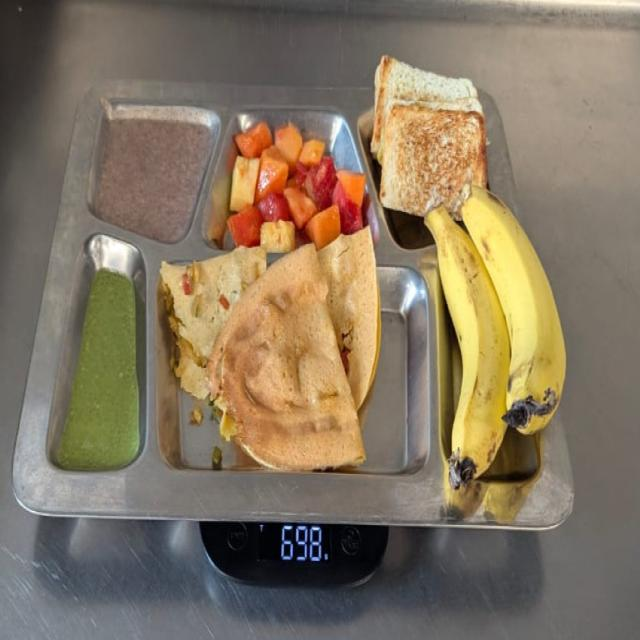Banana: (423, 193, 568, 495)
Besan Chilla: (158, 258, 382, 473)
Bread: (369, 52, 491, 215)
Chutney: (48, 262, 146, 478)
Mix Fruit: (226, 120, 370, 252)
Porridge: (92, 114, 213, 241)
